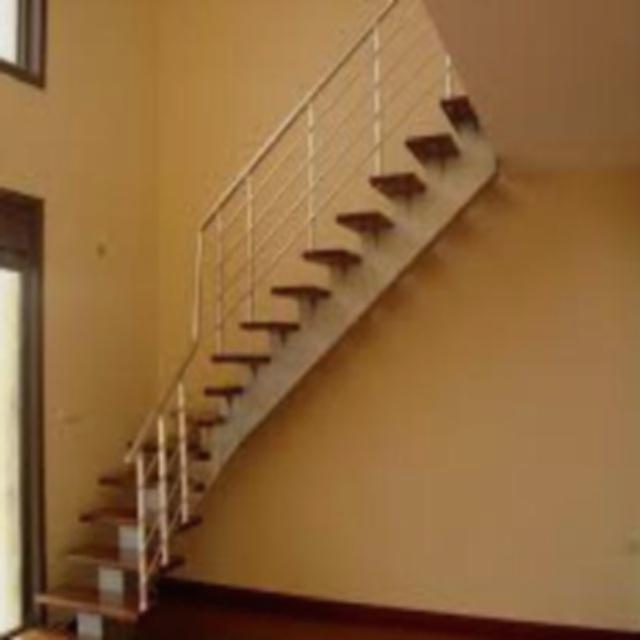stair: (2, 33, 533, 636)
